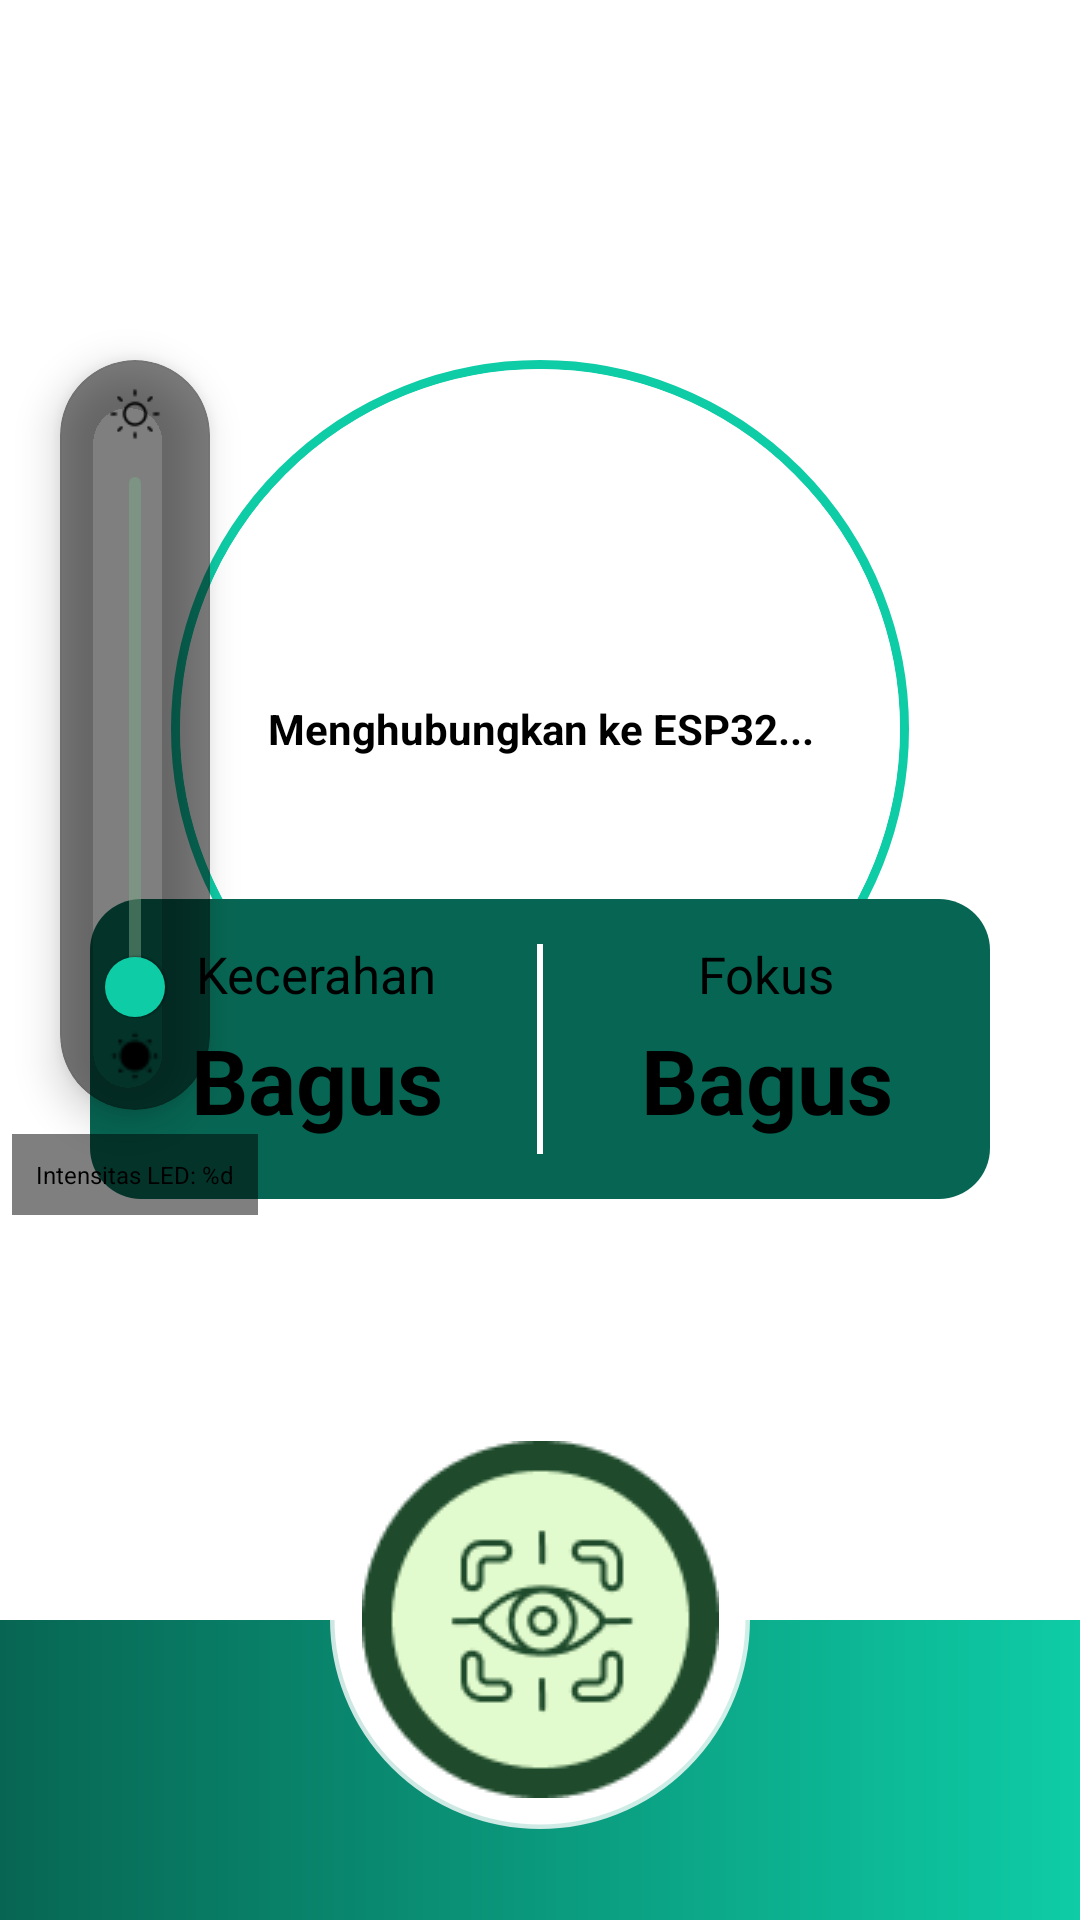

Icon bounding boxes for this 1080w x 1920h phone screenshot, format (left=x1, top=y1, right=x2, bottom=y2):
brignesslow: (left=114, top=1035, right=156, bottom=1077)
proicons brightness: (left=111, top=389, right=160, bottom=438)
